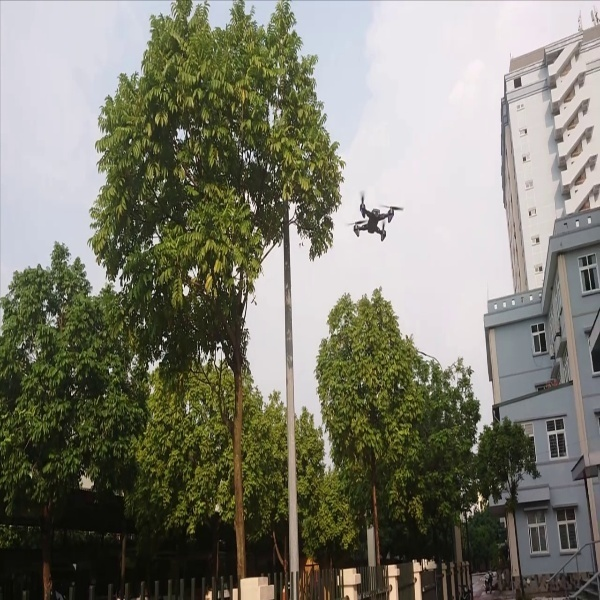drone: (341, 185, 407, 247)
